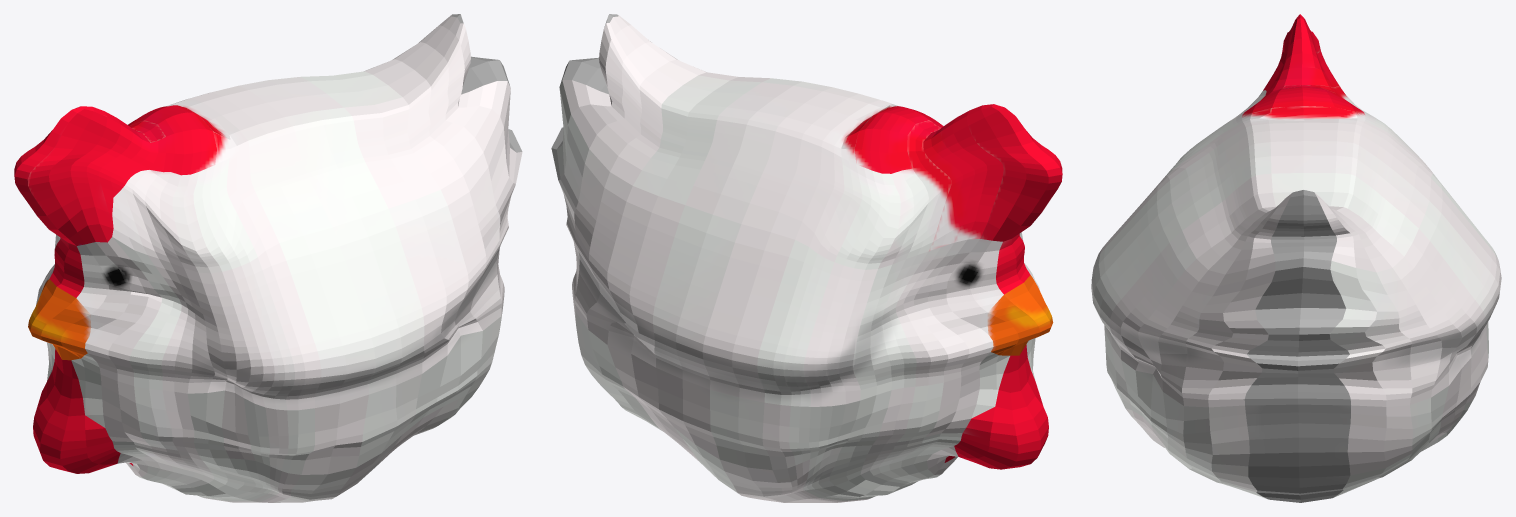
File: GD CHICKEN.fbx
The picture shows the model from 3 angles, left to right: view 1: azimuth 30°, elevation 25°; view 2: azimuth 150°, elevation 25°; view 3: azimuth 270°, elevation 25°; orthographic projection. The views are drawn at different scales.
Visible parts, largest first — view 1: Cube; view 2: Cube; view 3: Cube.
Part boxes in pixels (<box>): Cube: <box>14,14,522,502</box>; Cube: <box>551,14,1062,502</box>; Cube: <box>1091,14,1501,502</box>.
Bounding box in the file's own units: 190 × 152 × 147.
Materials: 1 (1 with a texture image).
